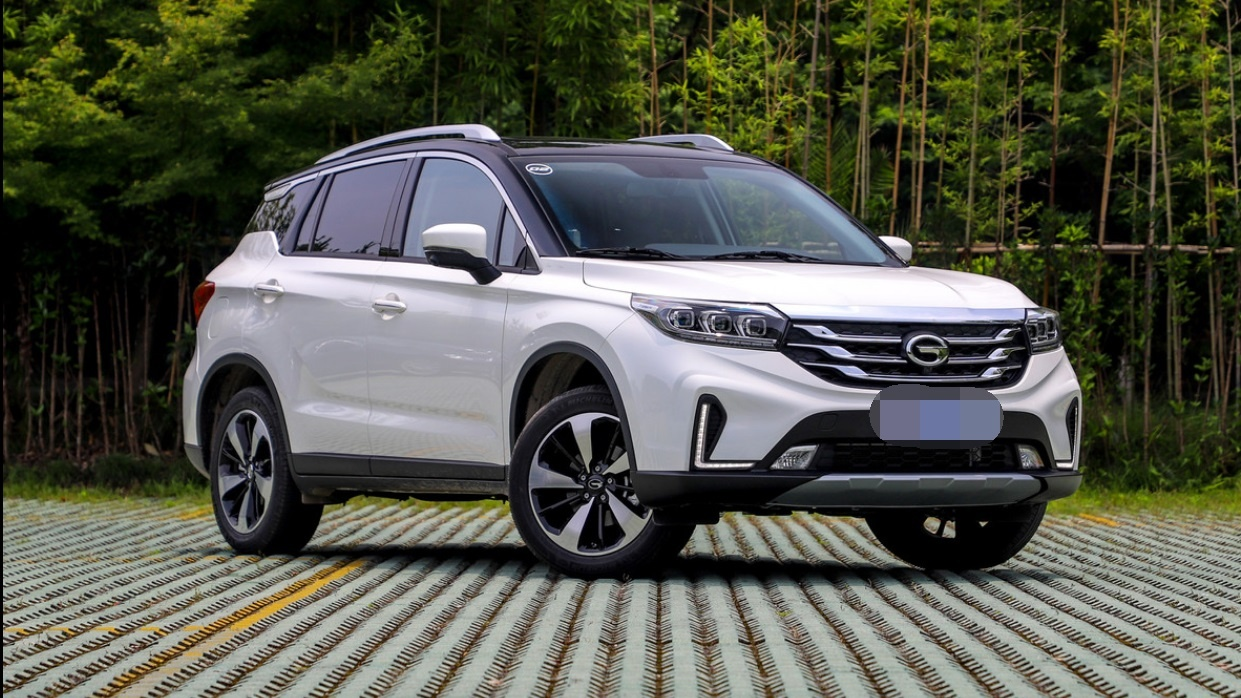SUV: (179, 104, 1073, 569)
